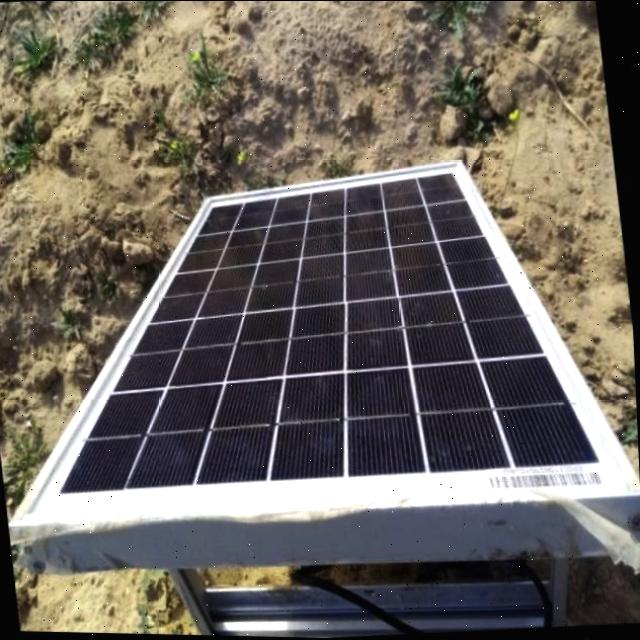Normal Solar Panel: (0, 149, 638, 545)
